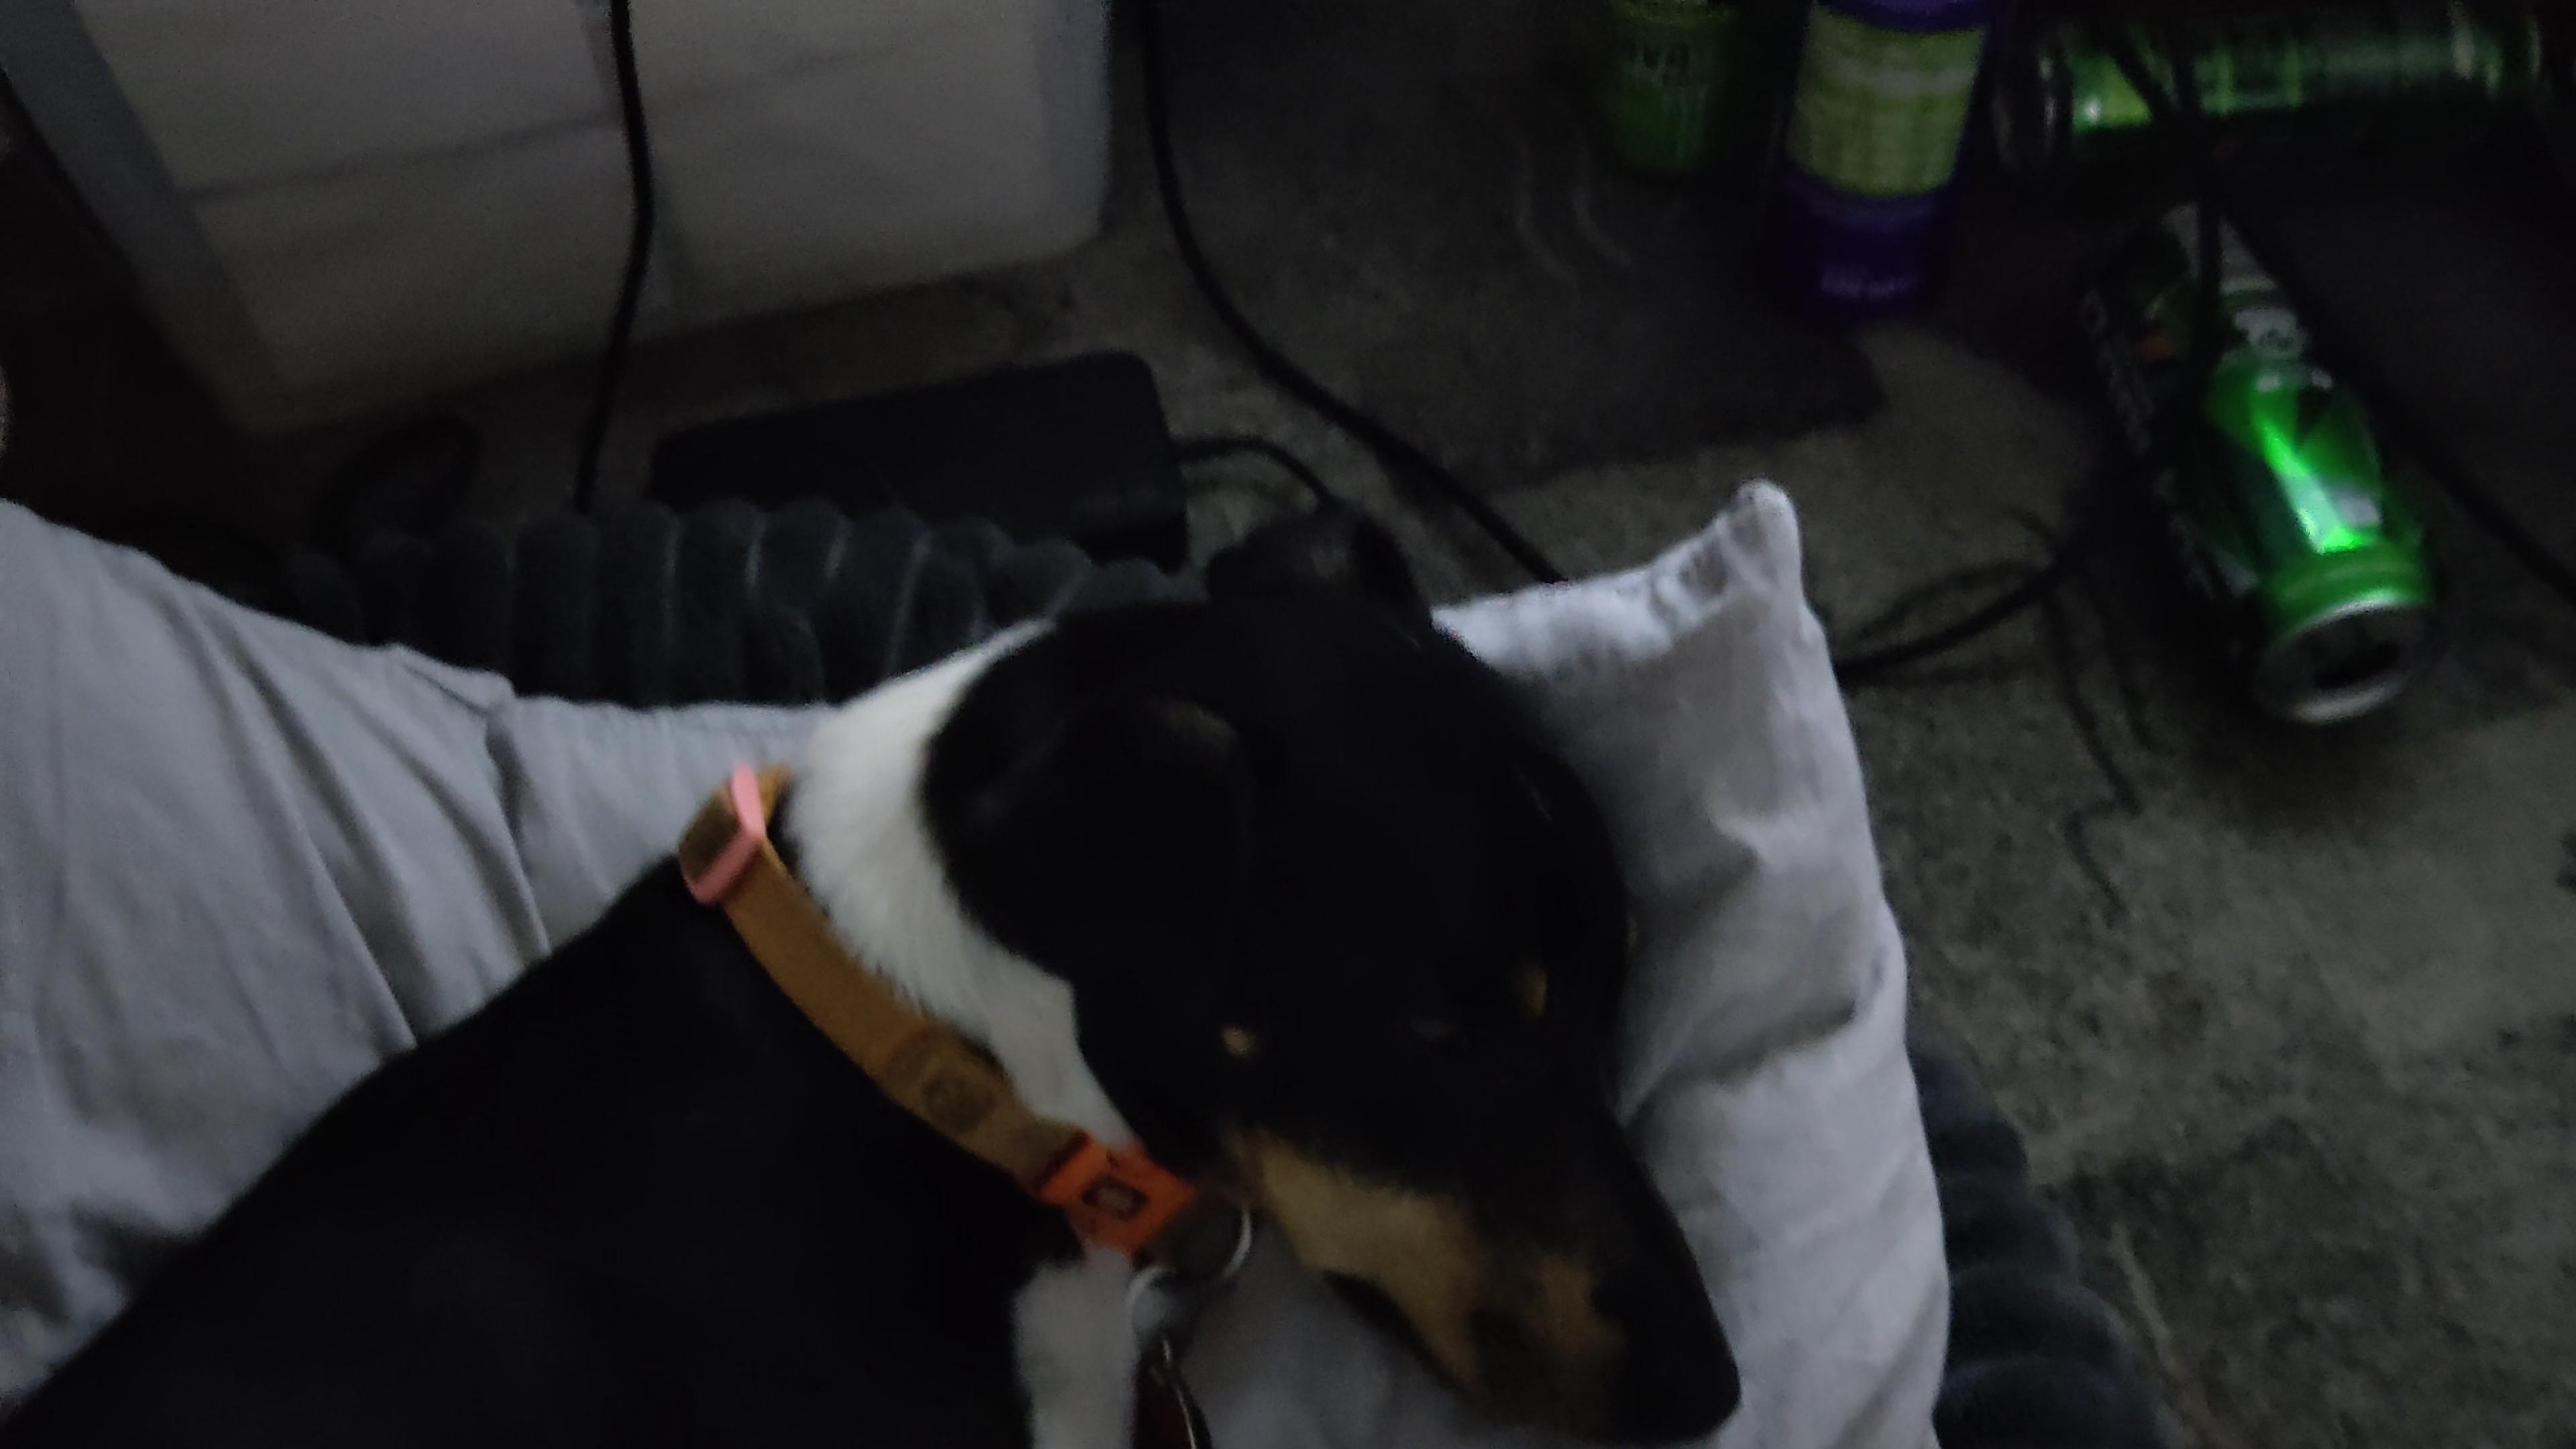Dog: (0, 478, 1767, 1449)
